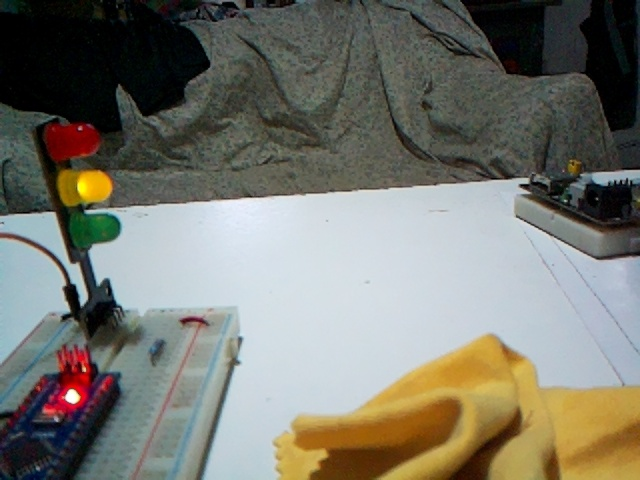traffic_light_yellow: (37, 122, 125, 339)
